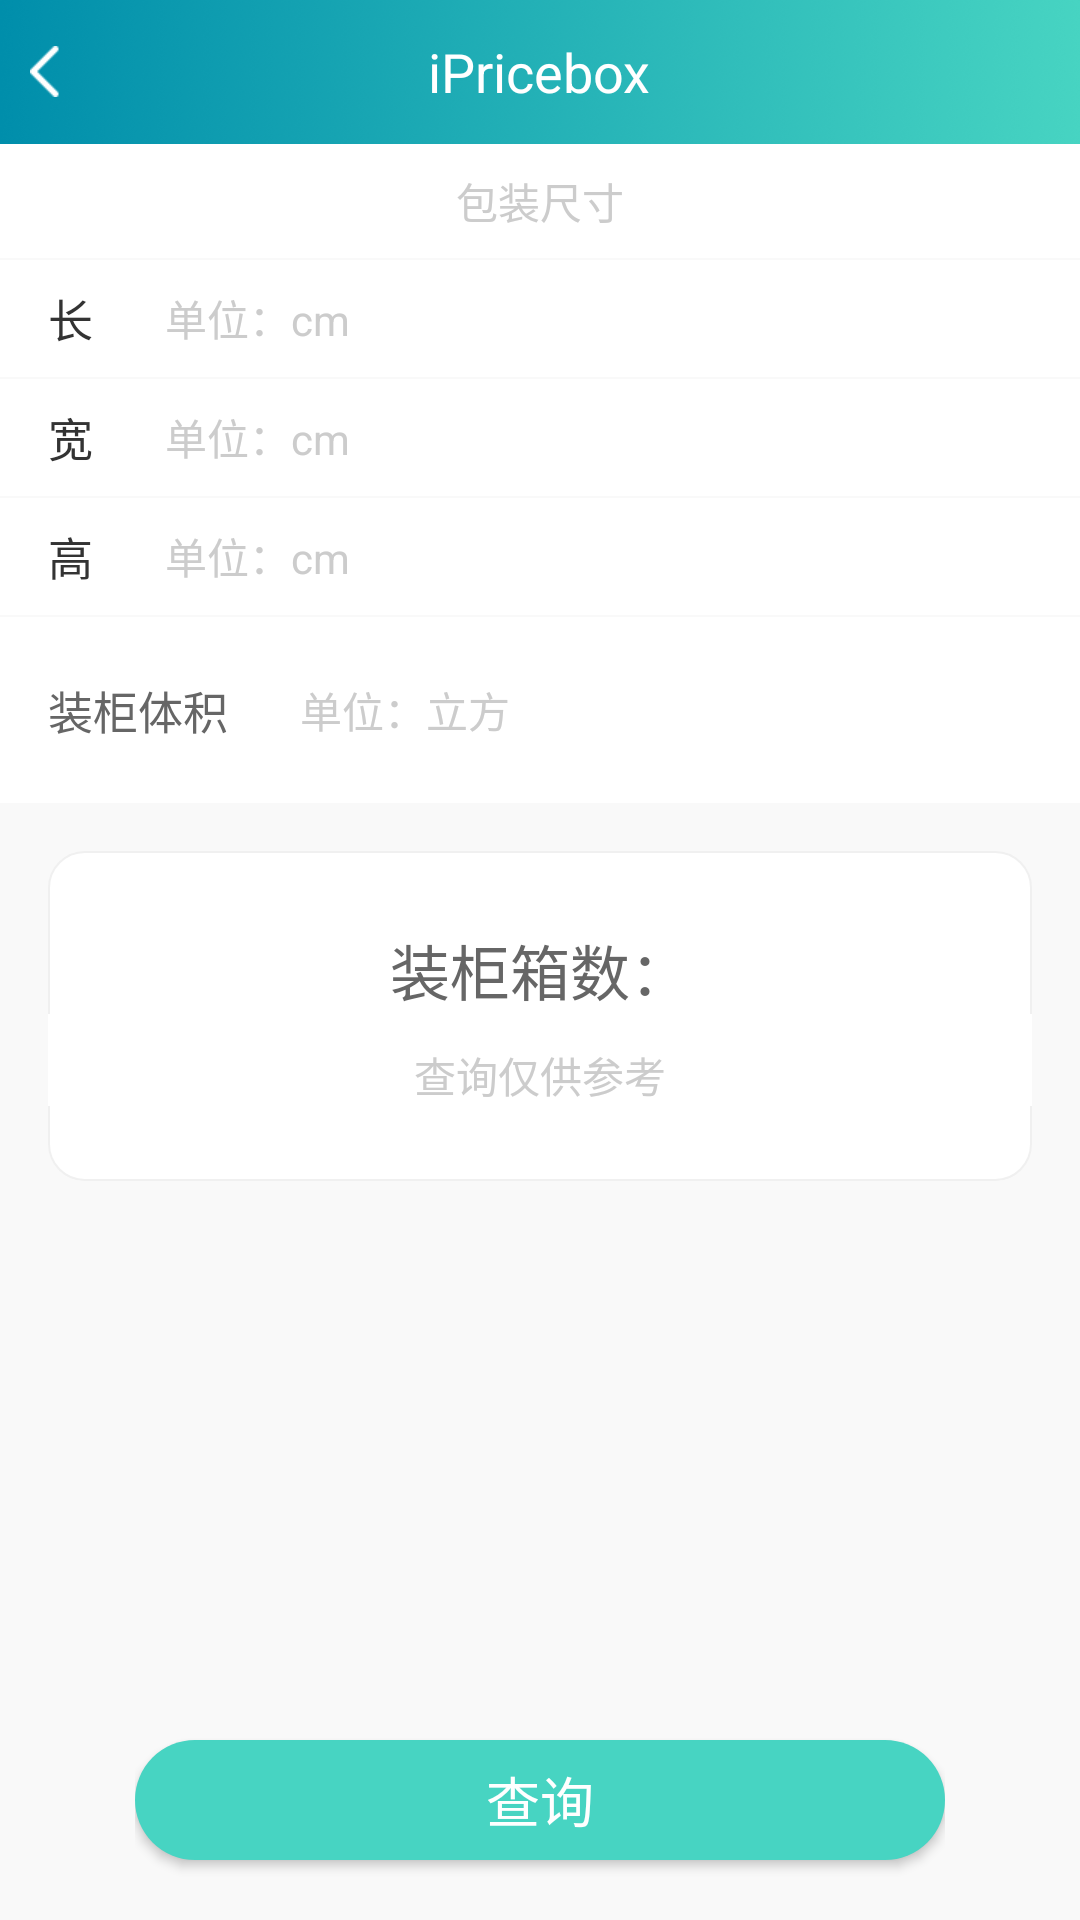

Screen size 1080 × 1920. Icon name, then its center in pixels as (x,y):
back: (44,71)
